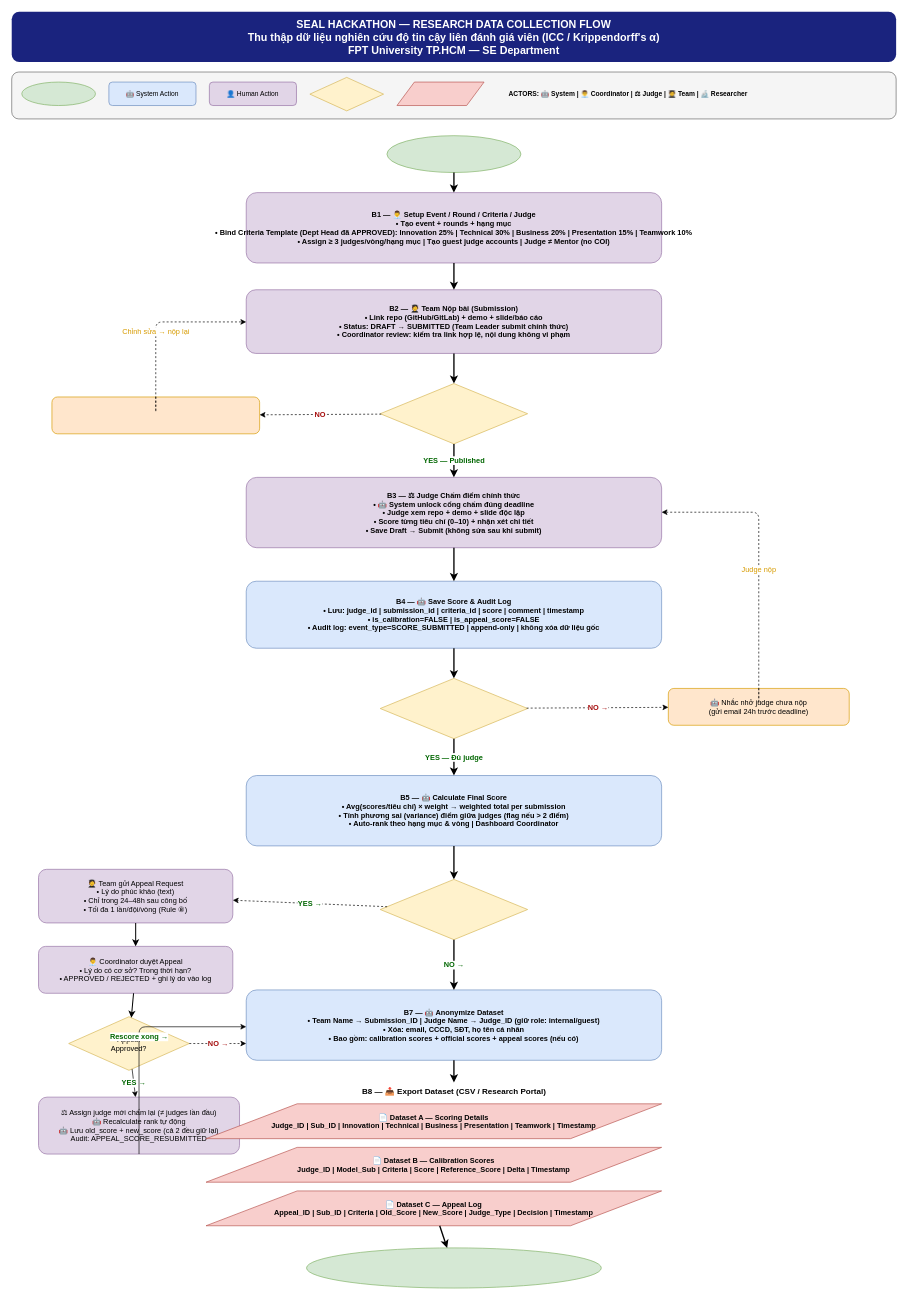
The diagram is 908 pixels wide and 1300 high, and some of its shapes have lost their labels. The shapes that lost their labels are listed below. From the top down, each one's centre as x and y in pixels, then its label:
At point (58, 93): "Start/End".
At point (346, 94): "Decision".
At point (440, 93): "Data / Output".
At point (453, 154): "🚀 START".
At point (155, 415): "↩ DRAFT — Coordinator yêu cầu bổ sung / chỉnh sửa (RESUBMIT_REQUIRED)".
At point (454, 413): "Bài nộp PUBLISHED?".
At point (454, 708): "Đủ judge đã nộp?".
At point (454, 909): "Có yêu cầu Appeal?".
At point (453, 1267): "✅ END Dataset sẵn sàng cho nghiên cứu ICC / Krippendorff's α".
